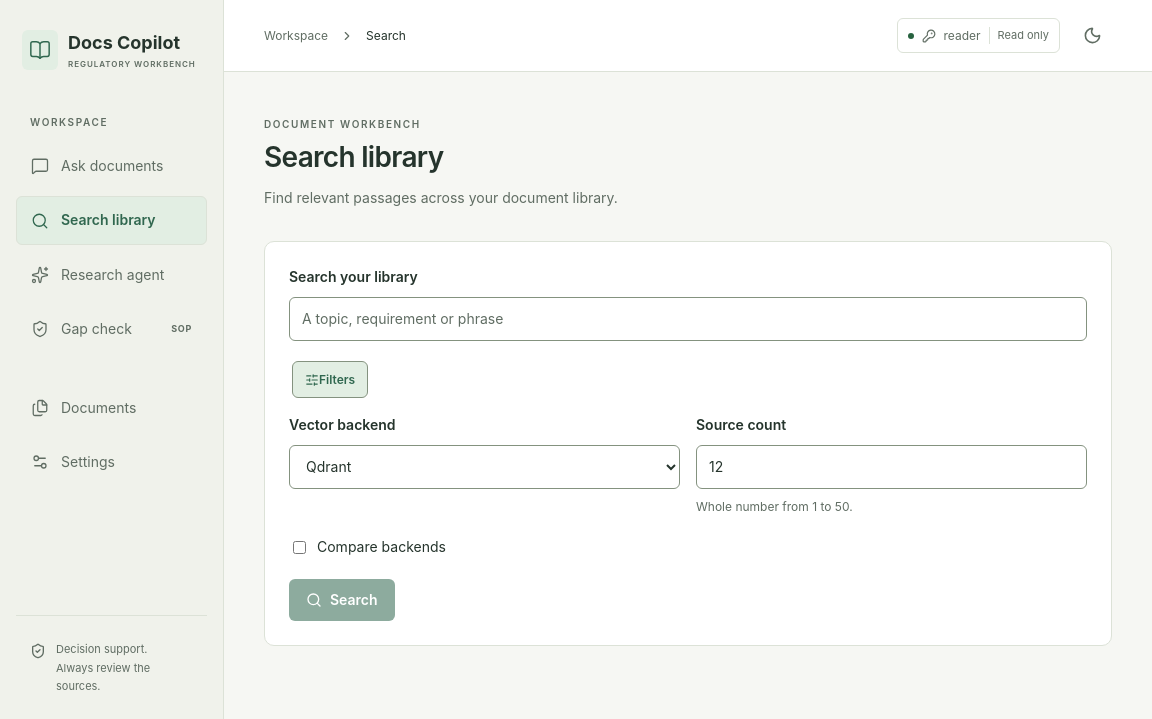
Scenario: foundation integration › uses the selected base URL, key and defaults in a feature request
Type "records" into the field labelled "Search your library" at (688, 319), box [289,297,1087,341]
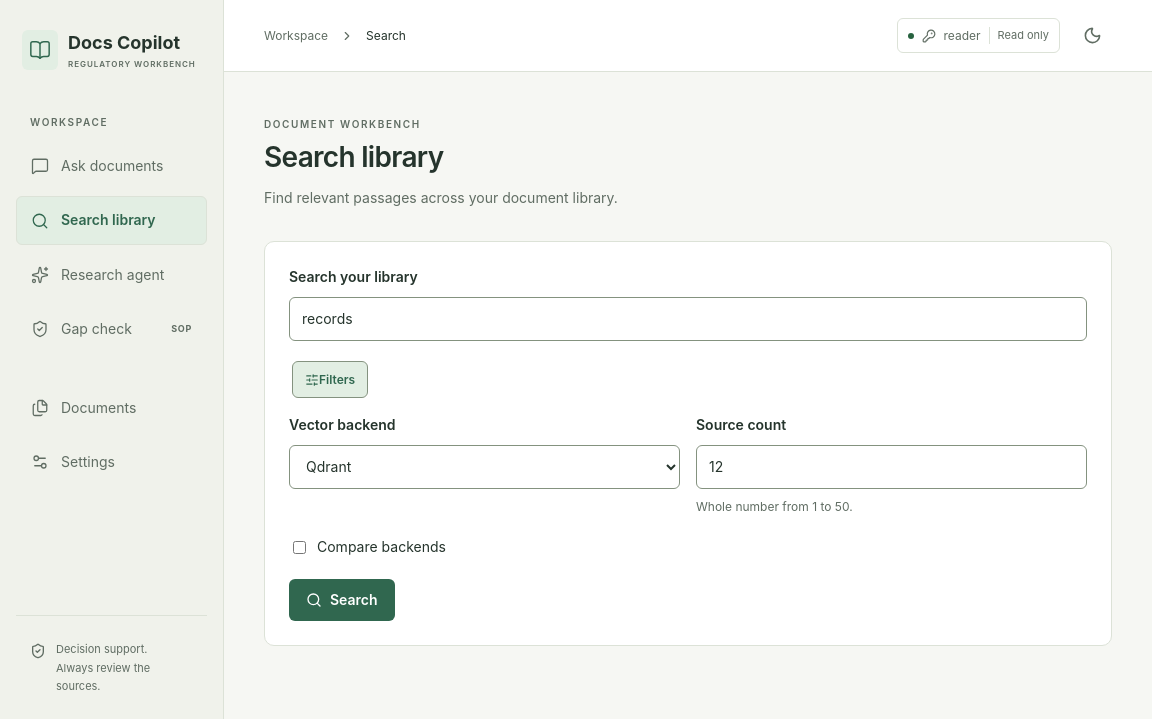
Submit the form labelled "Search your library", box [289,266,1087,621]
(page scrolled)
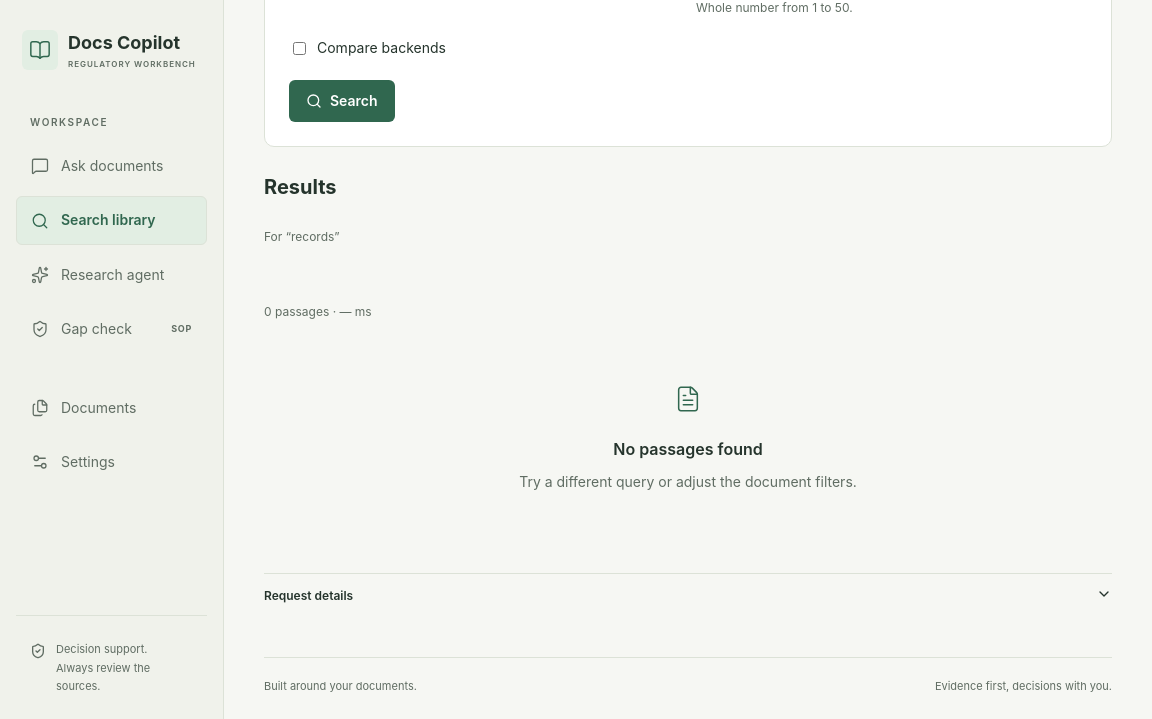
Expected: the heading "No passages found" is shown, [613,439,763,459]
